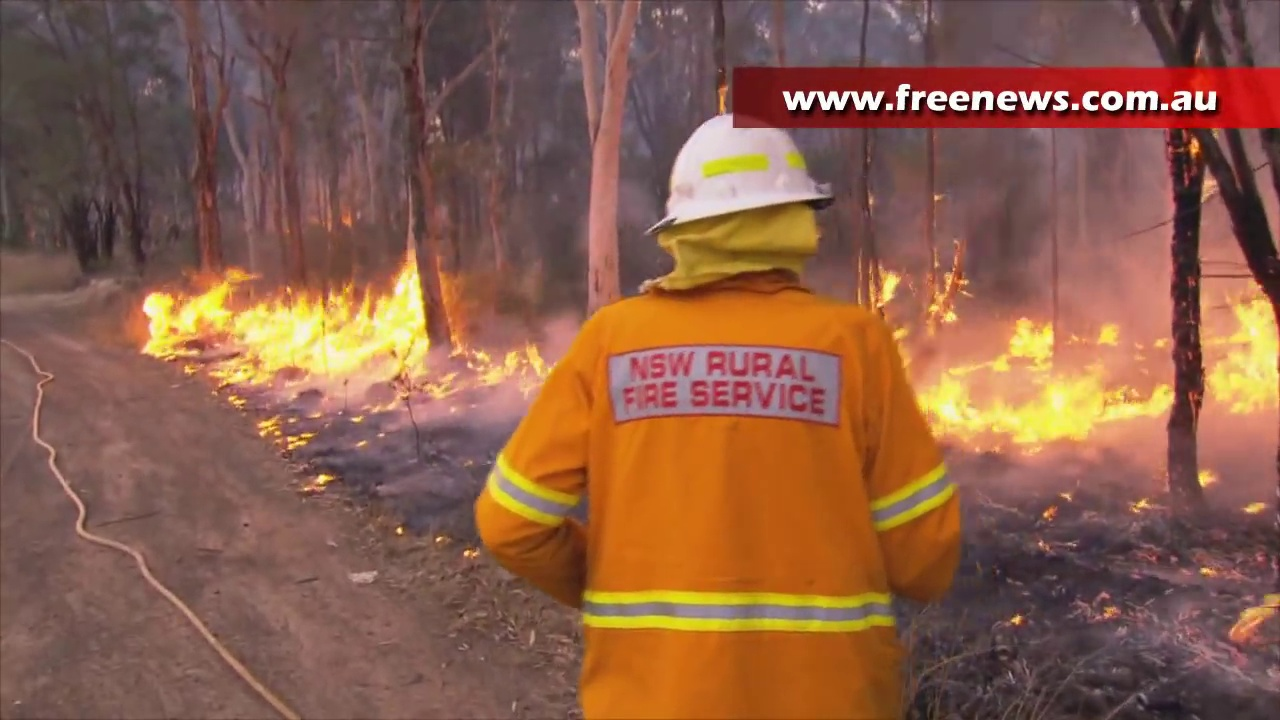fire: (907, 321, 1170, 437), (142, 282, 428, 381), (1206, 288, 1280, 418), (469, 339, 544, 397), (877, 266, 900, 304)
